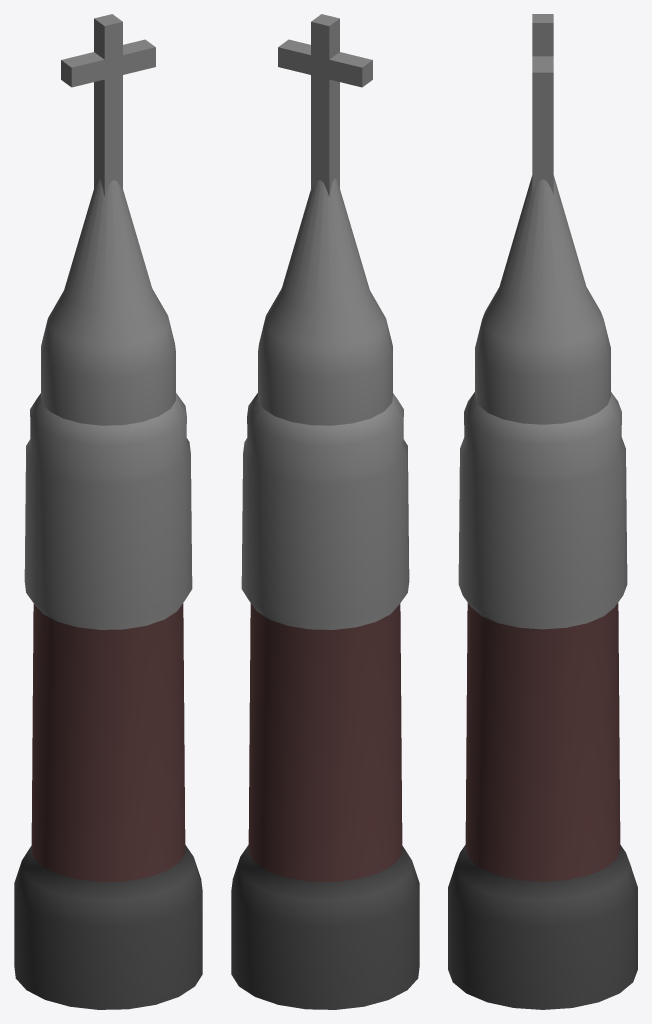
File: HammerTower.fbx
3 renders of one model, left to right at view 1: azimuth 30°, elevation 25°; view 2: azimuth 150°, elevation 25°; view 3: azimuth 270°, elevation 25°, orthographic.
Visible parts, largest first — view 1: HammerTower; view 2: HammerTower; view 3: HammerTower.
Part boxes in pixels (x1,y1,x2,y2): HammerTower: [14, 14, 202, 1009]; HammerTower: [231, 14, 419, 1009]; HammerTower: [448, 14, 637, 1009].
Size of the model in its own units: 10 by 55.32 by 10.
